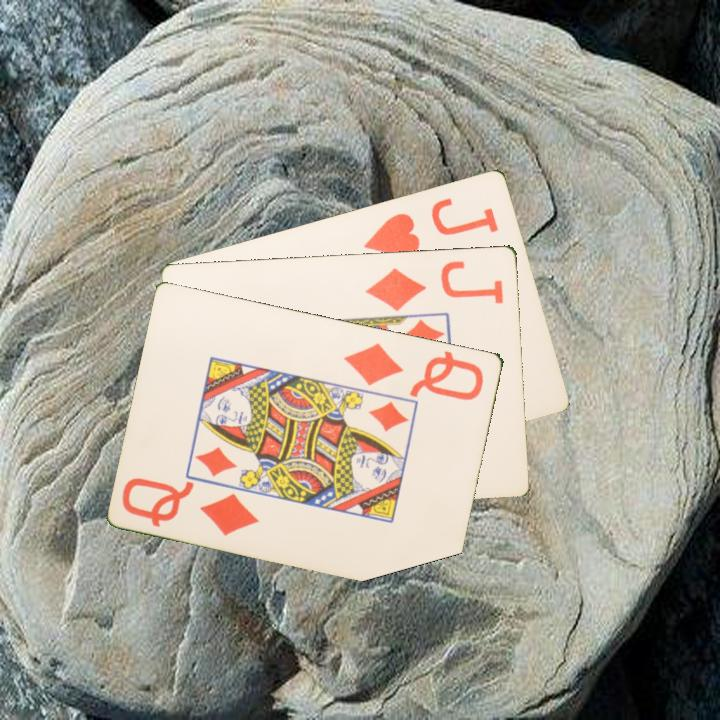Jd: (362, 256, 507, 313)
Jh: (360, 193, 502, 259)
Qd: (118, 473, 263, 539), (340, 338, 487, 403)
